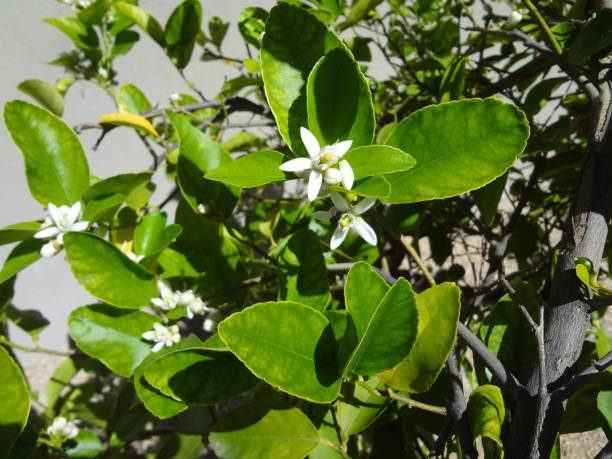flower: (278, 123, 350, 196), (308, 192, 389, 252), (35, 201, 92, 243), (140, 321, 180, 350), (145, 283, 182, 311)
